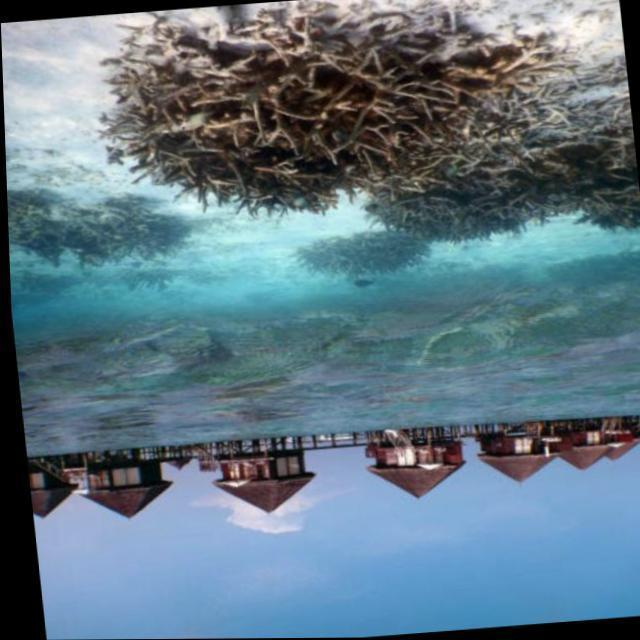Dead Coral: (92, 0, 585, 225)
